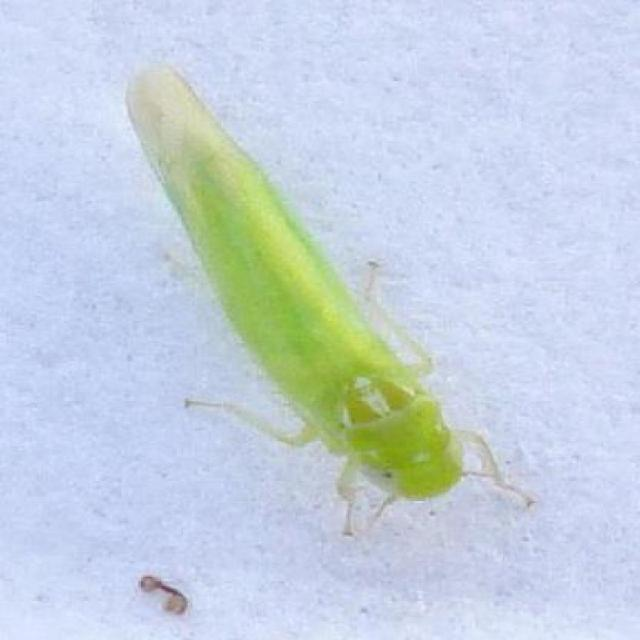green-leafhopper: (131, 71, 489, 508)
